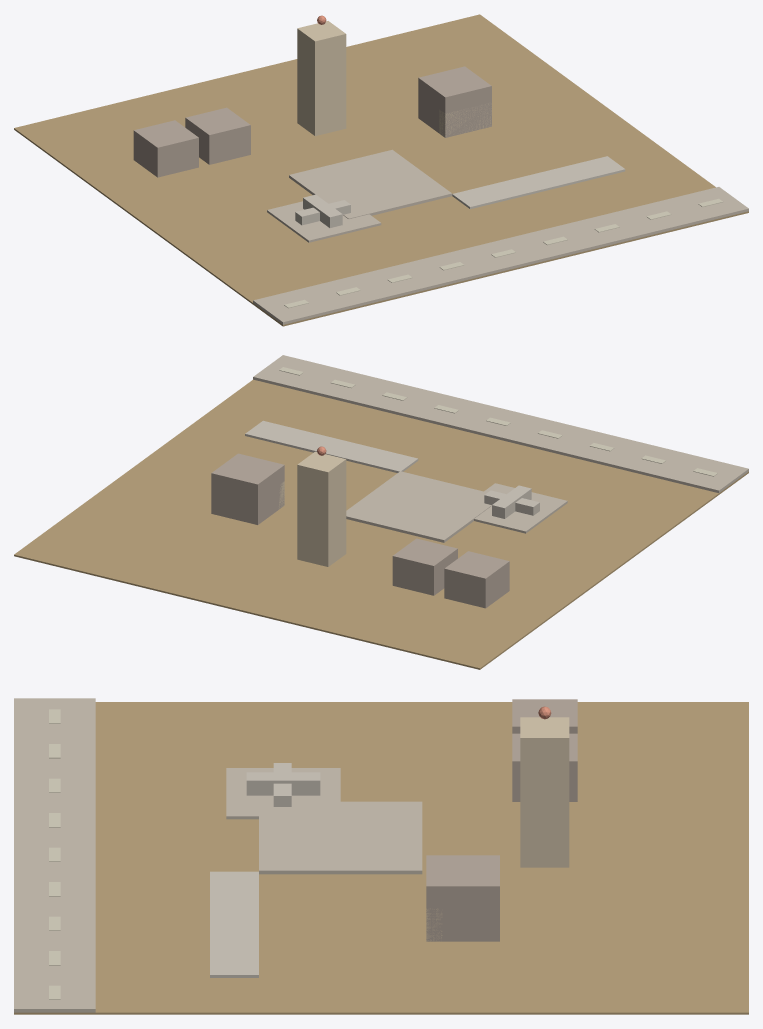
The model's file is stage_07.glb.
The picture shows the model from 3 angles, top to bottom: view 1: azimuth 30°, elevation 25°; view 2: azimuth 150°, elevation 25°; view 3: azimuth 270°, elevation 25°; orthographic projection. The views are drawn at different scales.
Visible parts, largest first — view 1: geometry_0; view 2: geometry_0; view 3: geometry_0.
Part boxes in pixels (x1,y1,x2,y2): geometry_0: (14,14,748,326); geometry_0: (14,355,748,669); geometry_0: (14,698,748,1014).
Size of the model in its own units: 9 by 2.06 by 9.
